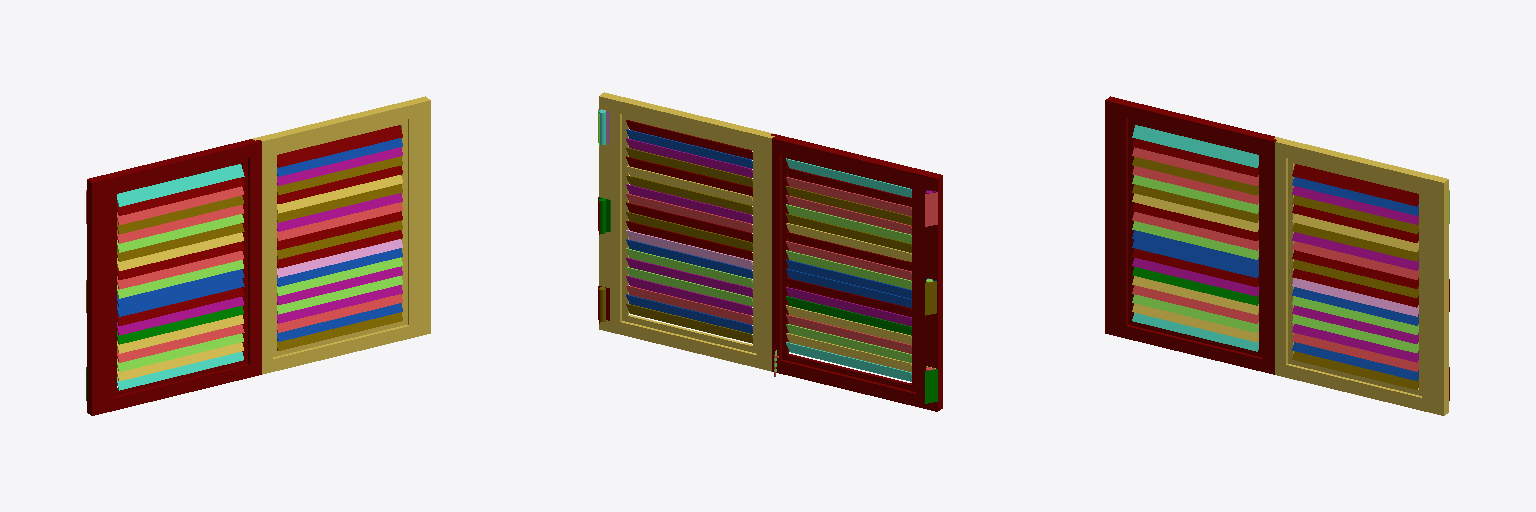
The model's file is window_square.obj.
The picture shows the model from 3 angles: view 1: azimuth 30°, elevation 25°; view 2: azimuth 150°, elevation 25°; view 3: azimuth 330°, elevation 25°; orthographic projection.
Parts seen in each view (by area): view 1: _0_001, Layer0_001, 1_1_042, 1_1_001, 1_1_038, 1_1_030, 1_1_024, 1_1_033, 1_1_029, 1_1_027, 1_1_041, 1_1_039 (+28 smaller); view 2: Layer0_001, _0_001, 1_1_021, 1_1_032, 1_1_015, 1_1_011, 1_1_005, 1_1_004, 1_1_020, 1_1_018, 1_1_017, 1_1_016 (+28 smaller); view 3: Layer0_001, _0_001, 1_1_042, 1_1_001, 1_1_002, 1_1_008, 1_1_019, 1_1_014, 1_1_040, 1_1_031, 1_1_018, 1_1_015 (+28 smaller).
Boxes of the visible parts, x1=… form: _0_001: x1=87, y1=139, x2=261, y2=415; Layer0_001: x1=253, y1=96, x2=430, y2=374; 1_1_042: x1=117, y1=164, x2=244, y2=206; 1_1_001: x1=277, y1=125, x2=402, y2=167; 1_1_038: x1=117, y1=205, x2=243, y2=243; 1_1_030: x1=117, y1=260, x2=243, y2=298; 1_1_024: x1=117, y1=315, x2=243, y2=353; 1_1_033: x1=117, y1=342, x2=243, y2=380; 1_1_029: x1=117, y1=269, x2=244, y2=307; 1_1_027: x1=117, y1=287, x2=243, y2=325; 1_1_041: x1=117, y1=177, x2=243, y2=215; 1_1_039: x1=117, y1=196, x2=243, y2=234; Layer0_001: x1=599, y1=92, x2=774, y2=371; _0_001: x1=771, y1=134, x2=942, y2=411; 1_1_021: x1=626, y1=303, x2=752, y2=343; 1_1_032: x1=786, y1=342, x2=911, y2=381; 1_1_015: x1=626, y1=248, x2=752, y2=288; 1_1_011: x1=626, y1=212, x2=752, y2=251; 1_1_005: x1=626, y1=156, x2=752, y2=196; 1_1_004: x1=626, y1=147, x2=752, y2=187; 1_1_020: x1=626, y1=294, x2=752, y2=333; 1_1_018: x1=626, y1=276, x2=752, y2=315; 1_1_017: x1=626, y1=267, x2=752, y2=306; 1_1_016: x1=626, y1=257, x2=752, y2=297; Layer0_001: x1=1274, y1=137, x2=1448, y2=415; _0_001: x1=1105, y1=96, x2=1276, y2=374; 1_1_042: x1=1132, y1=125, x2=1258, y2=167; 1_1_001: x1=1292, y1=164, x2=1418, y2=206; 1_1_002: x1=1292, y1=177, x2=1418, y2=215; 1_1_008: x1=1292, y1=232, x2=1418, y2=270; 1_1_019: x1=1292, y1=333, x2=1418, y2=371; 1_1_014: x1=1292, y1=287, x2=1418, y2=325; 1_1_040: x1=1132, y1=147, x2=1258, y2=185; 1_1_031: x1=1132, y1=212, x2=1258, y2=250; 1_1_018: x1=1292, y1=324, x2=1418, y2=362; 1_1_015: x1=1292, y1=296, x2=1418, y2=334.
Bounding box in the file's own units: 43.17 × 28.77 × 2.51.